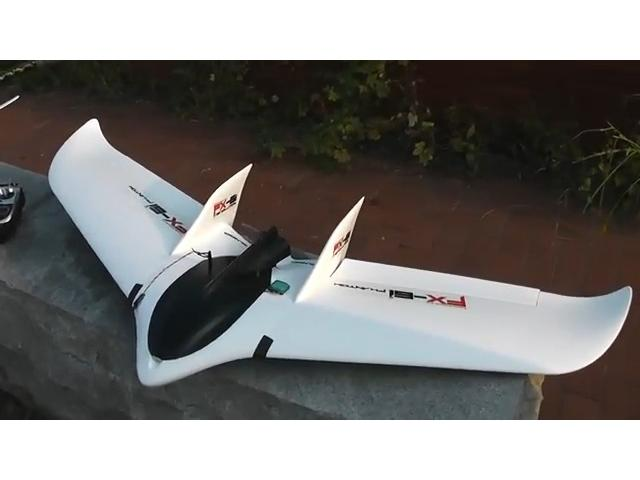Anti-Drone: (26, 98, 640, 396)
